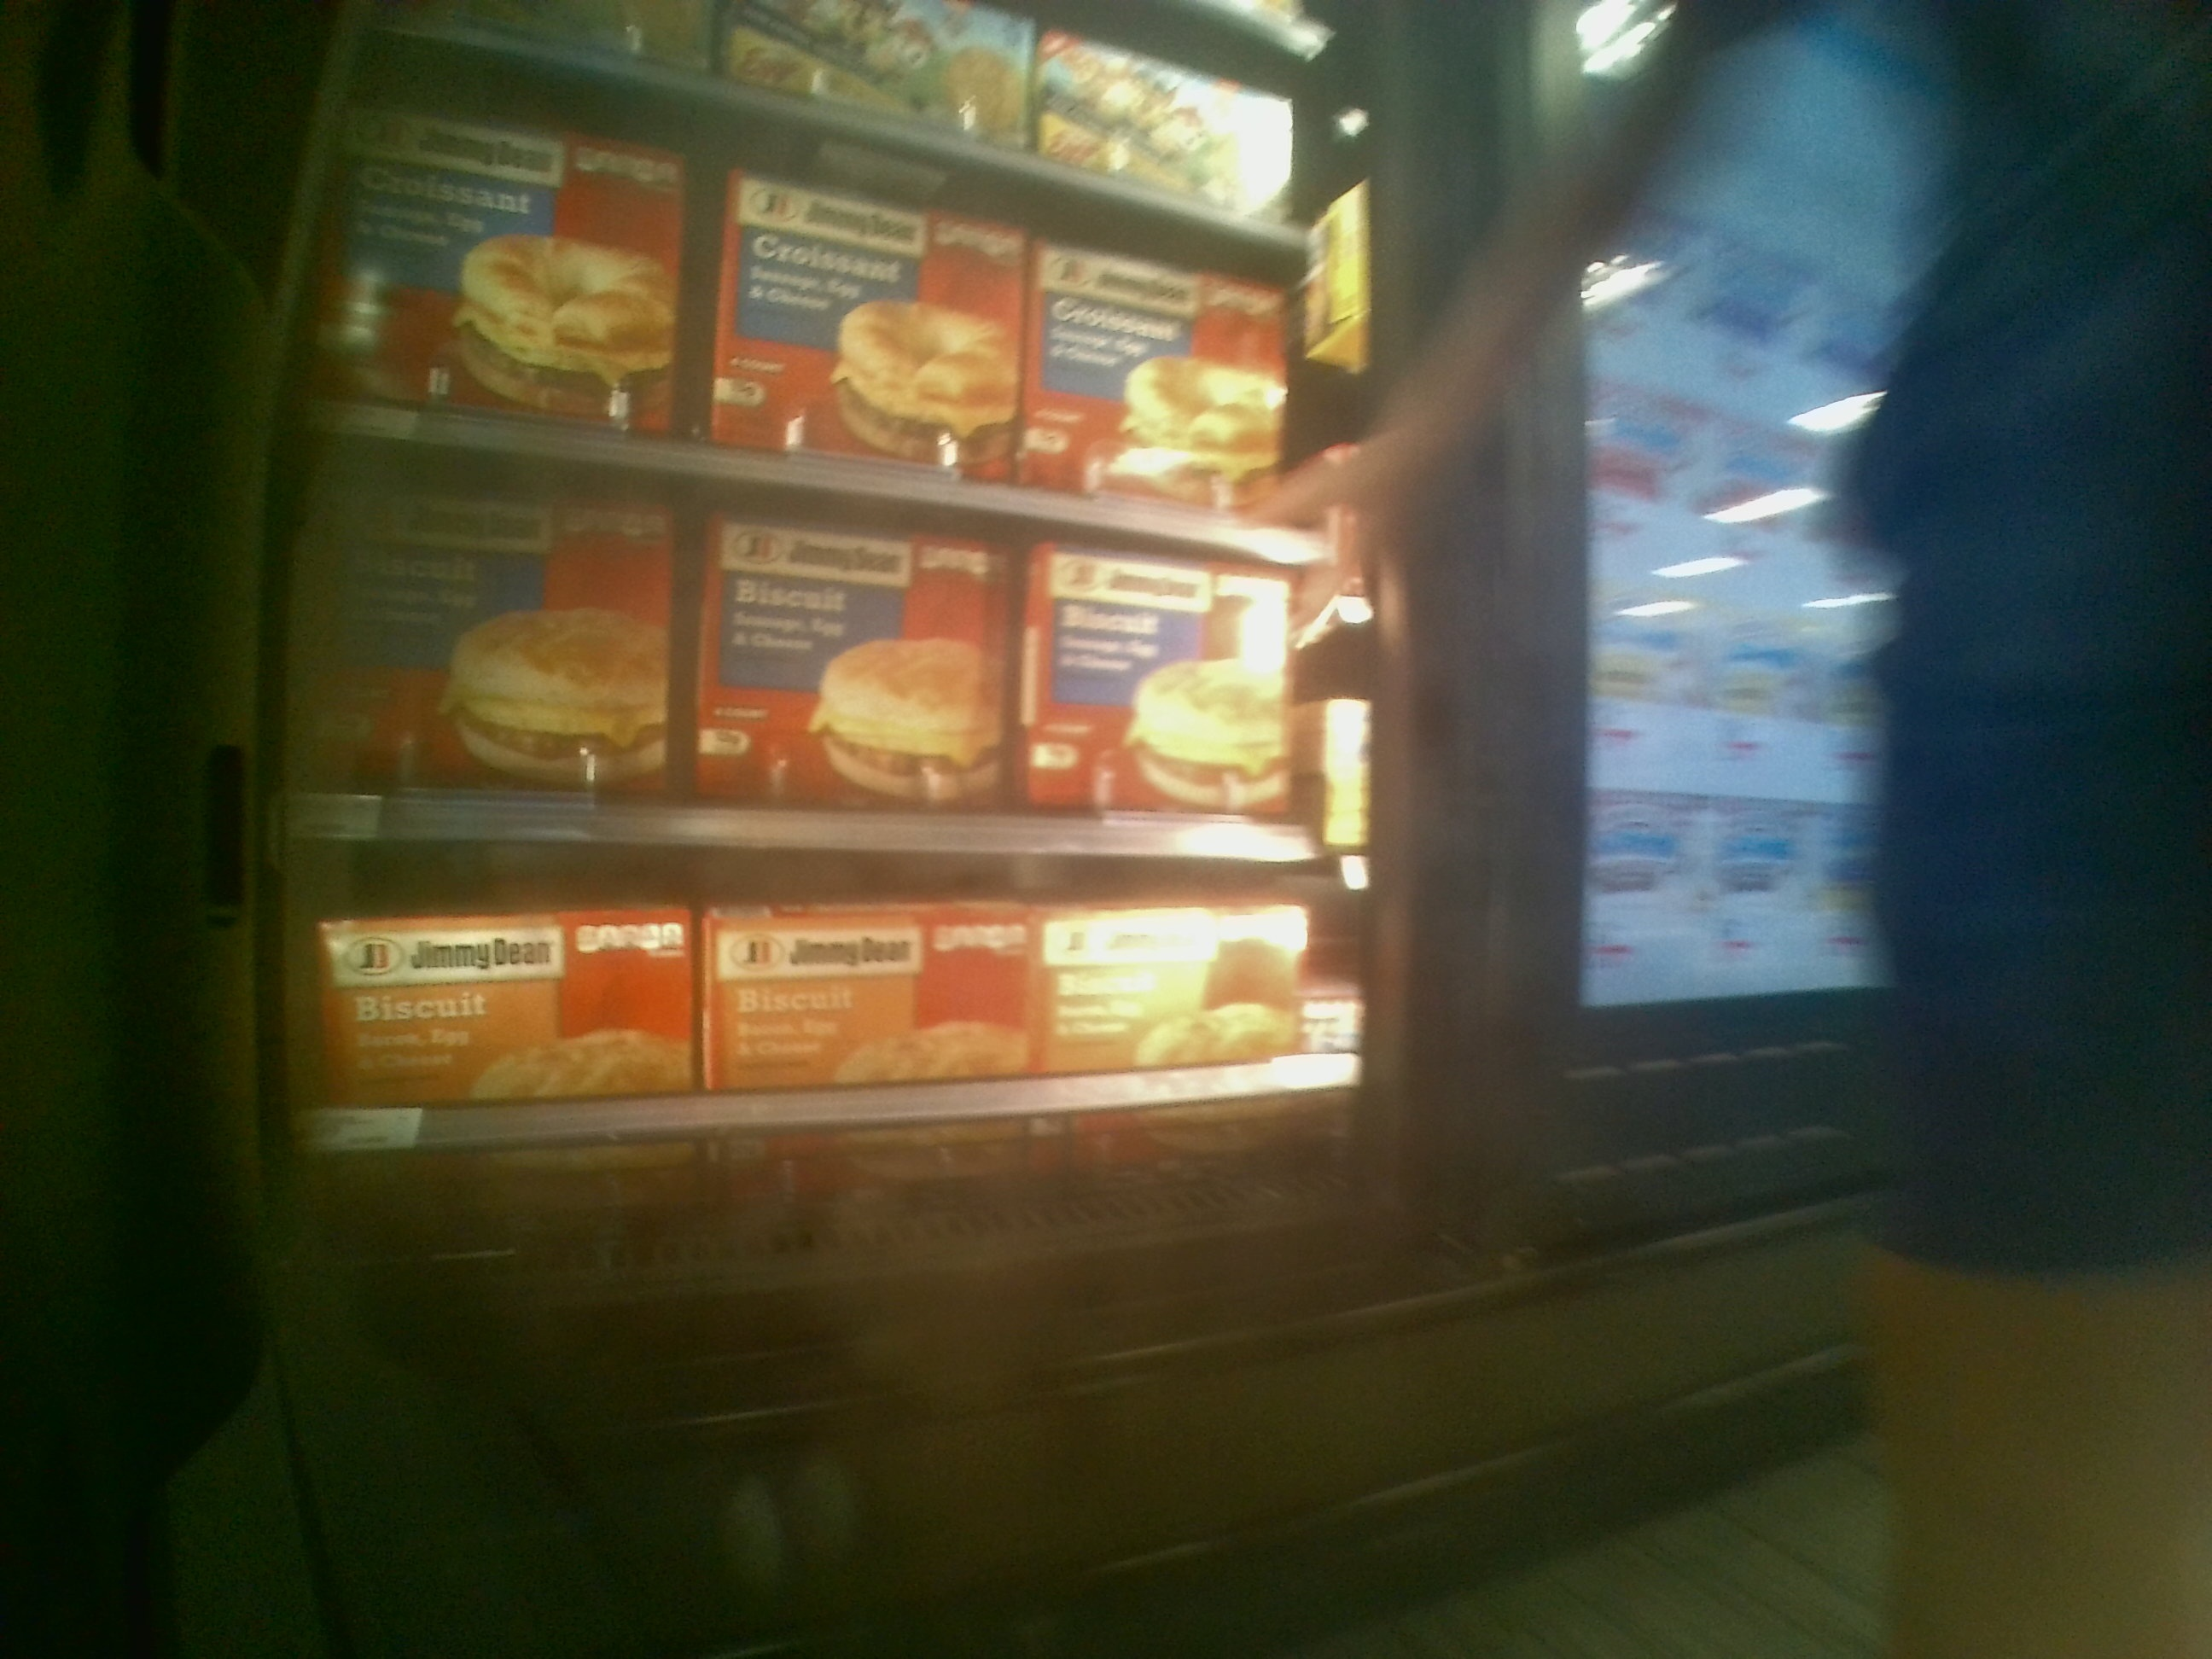shelf: (273, 838, 1372, 1246), (273, 430, 1343, 843)
